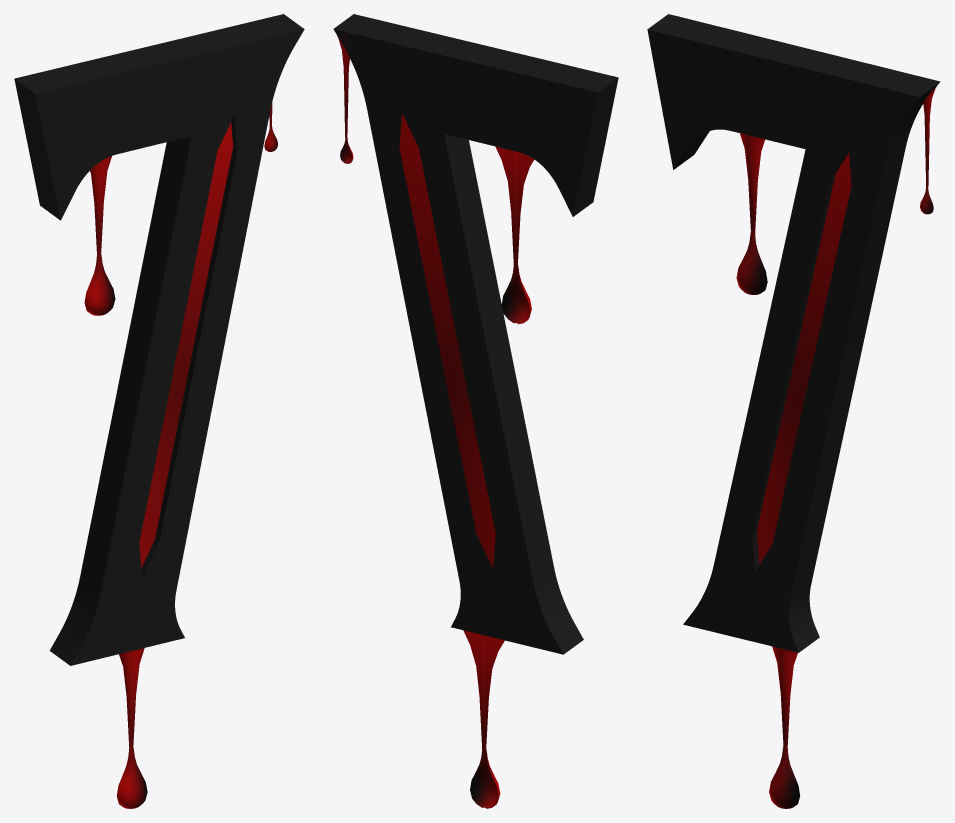
3 renders of one model, left to right at view 1: azimuth 30°, elevation 25°; view 2: azimuth 150°, elevation 25°; view 3: azimuth 330°, elevation 25°, orthographic. The views are drawn at different scales.
Parts seen in each view (by area): view 1: 007, 7_Element, Blood_131, Blood_128; view 2: 007, 7_Element, Blood_131, Blood_128, Blood_130; view 3: 007, 7_Element, Blood_131, Blood_128, Blood_130.
Boxes of the visible parts, bbox=[...] form: 007: bbox=[14, 14, 304, 665]; 7_Element: bbox=[139, 122, 233, 567]; Blood_131: bbox=[117, 648, 147, 808]; Blood_128: bbox=[84, 156, 115, 315]; 007: bbox=[333, 14, 618, 654]; 7_Element: bbox=[399, 113, 495, 568]; Blood_131: bbox=[463, 630, 504, 808]; Blood_128: bbox=[495, 146, 534, 324]; Blood_130: bbox=[337, 32, 353, 163]; 007: bbox=[647, 14, 940, 652]; 7_Element: bbox=[757, 152, 851, 564]; Blood_131: bbox=[769, 646, 799, 808]; Blood_128: bbox=[736, 133, 767, 294]; Blood_130: bbox=[920, 86, 936, 214].
Size of the model in its own units: 37.3 by 100 by 5.01.
2 materials, 1 textured.
